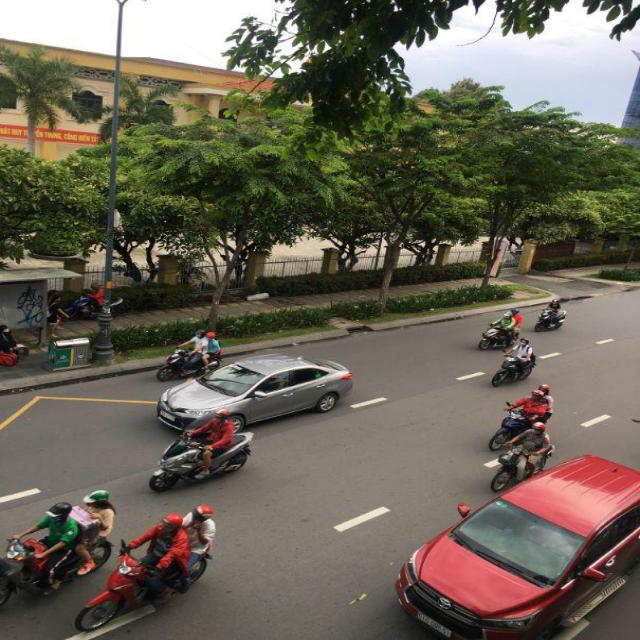car: (392, 452, 640, 640), (156, 357, 360, 431)
motorcycle: (74, 541, 211, 634), (3, 513, 112, 595), (152, 424, 252, 494), (488, 440, 555, 492), (490, 401, 554, 453), (158, 340, 221, 382), (478, 324, 520, 352), (493, 358, 535, 384), (535, 306, 566, 331)
